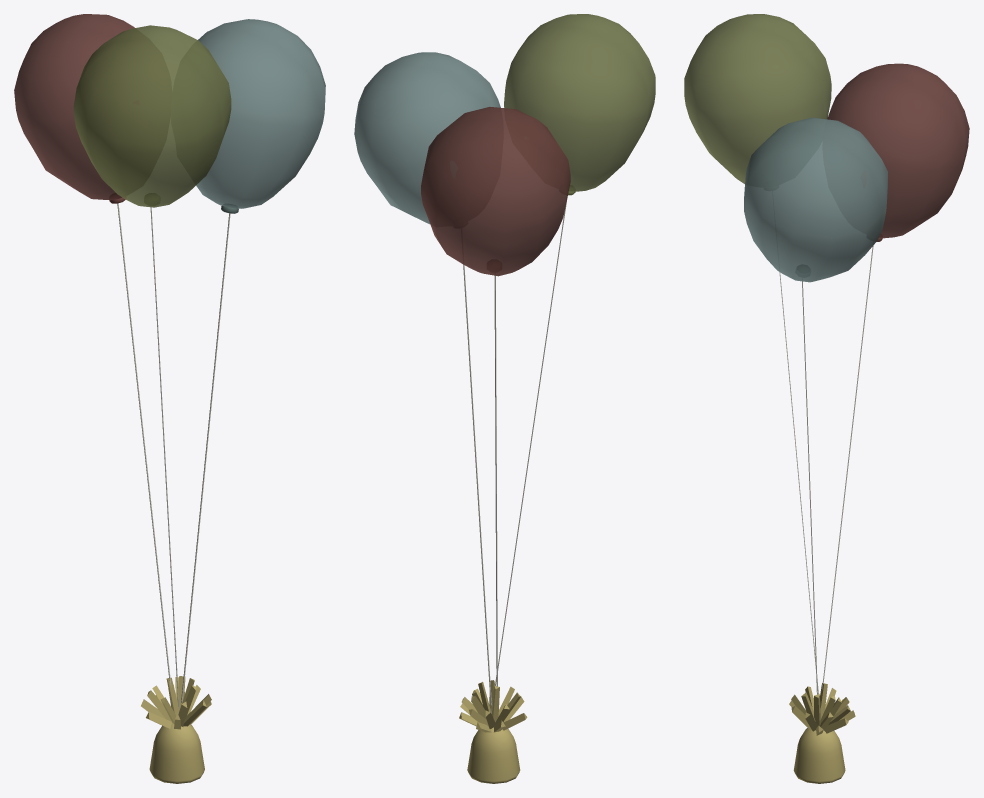
Rendered from BalloonCluster3.fbx.
3 renders of one model, left to right at view 1: azimuth 30°, elevation 25°; view 2: azimuth 150°, elevation 25°; view 3: azimuth 270°, elevation 25°, orthographic. The views are drawn at different scales.
Visible parts, largest first — view 1: Balloon_Cluster3; view 2: Balloon_Cluster3; view 3: Balloon_Cluster3.
Part boxes in pixels (bbox=[...]): Balloon_Cluster3: bbox=[14, 14, 325, 783]; Balloon_Cluster3: bbox=[354, 14, 655, 783]; Balloon_Cluster3: bbox=[684, 14, 969, 783].
Size of the model in its own units: 95.03 by 269 by 95.55.
